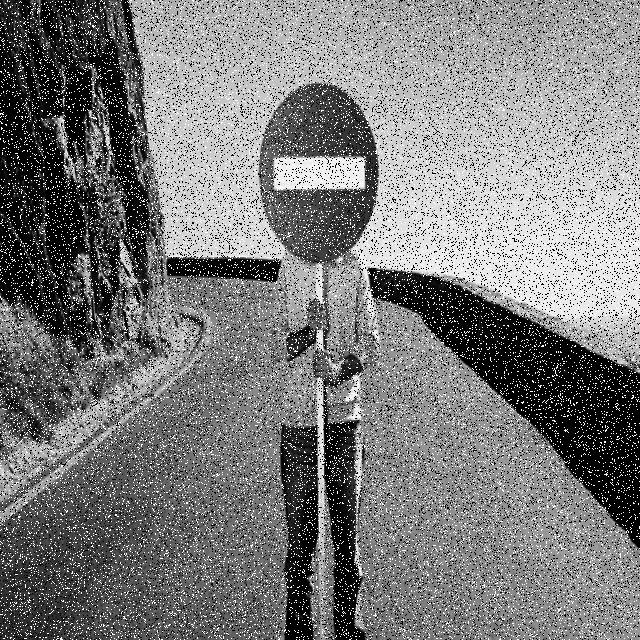no entry: (259, 84, 378, 264)
